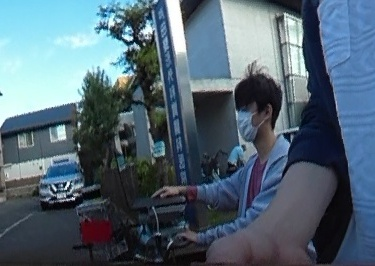person: (187, 73, 301, 266), (229, 141, 245, 171)
